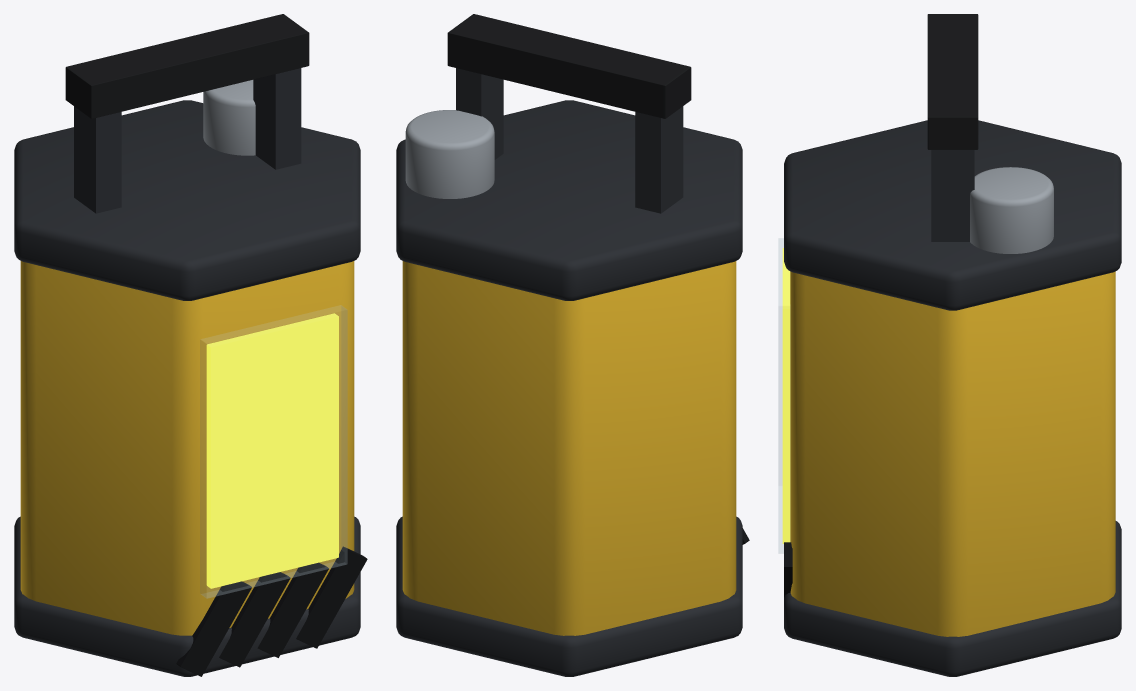
The model's file is fuel.fbx.
3 renders of one model, left to right at view 1: azimuth 30°, elevation 25°; view 2: azimuth 150°, elevation 25°; view 3: azimuth 270°, elevation 25°, orthographic. The views are drawn at different scales.
Visible parts, largest first — view 1: Cylinder.013, Cylinder.015, Cube.006, Cube.005, Cube.009, Cylinder.014, Cube.007, Cube.008, Cylinder.016, Cube.013, Cube.010, Cube.011 (+1 smaller); view 2: Cylinder.013, Cylinder.015, Cylinder.014, Cube.009, Cylinder.016, Cube.007, Cube.008; view 3: Cylinder.013, Cylinder.015, Cylinder.014, Cube.009, Cylinder.016, Cube.008, Cube.006, Cube.005.
Boxes of the visible parts, x1,y1,x2,y2 form: Cylinder.013: (20,261,354,635); Cylinder.015: (14,100,360,300); Cube.006: (200,305,347,598); Cube.005: (206,313,338,588); Cube.009: (65,14,309,118); Cylinder.014: (14,516,360,676); Cube.007: (74,106,121,213); Cube.008: (253,68,301,169); Cylinder.016: (203,80,255,155); Cube.013: (296,546,367,648); Cube.010: (176,581,251,676); Cube.011: (219,572,290,667); Cylinder.013: (402,261,736,635); Cylinder.015: (396,100,742,300); Cylinder.014: (396,516,742,676); Cube.009: (447,14,691,118); Cylinder.016: (405,110,494,198); Cube.007: (635,106,683,213); Cube.008: (456,68,503,159); Cylinder.013: (790,271,1115,636); Cylinder.015: (784,120,1121,310); Cylinder.014: (784,521,1121,676); Cube.009: (927,14,978,149); Cylinder.016: (970,167,1053,253); Cube.008: (931,150,974,241); Cube.006: (778,238,790,553); Cube.005: (782,248,790,543).
Bounding box in the file's own units: 26.65 × 40.75 × 23.79.
